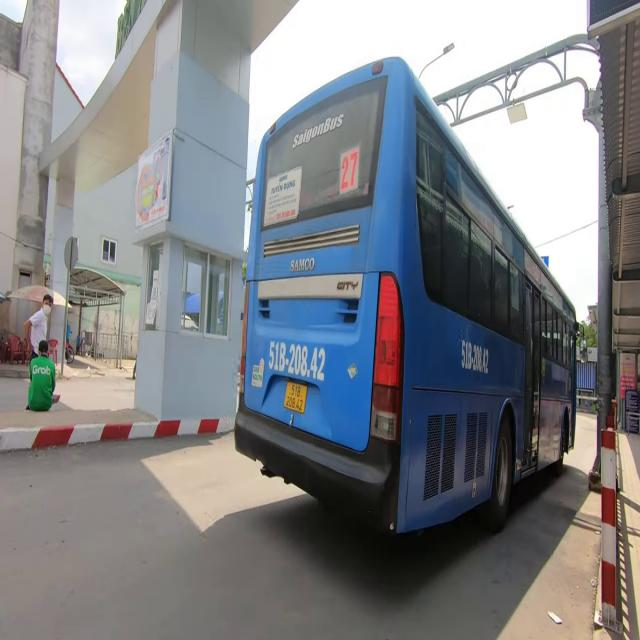bien_vang: (284, 380, 310, 414)
